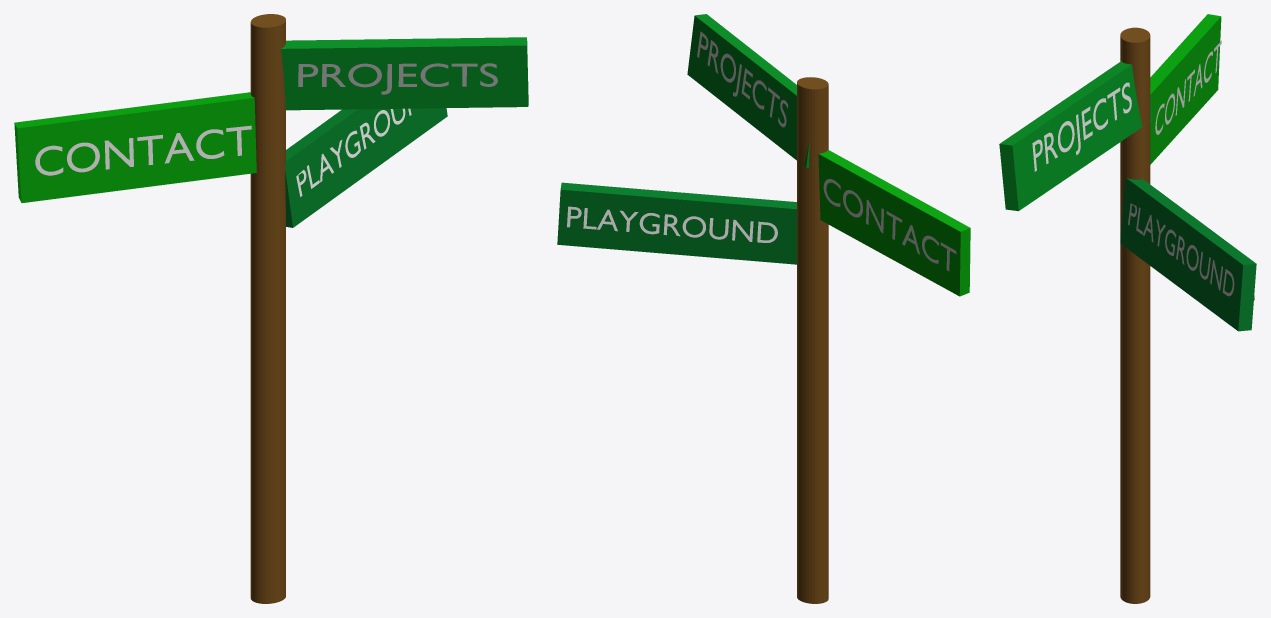
The model's file is sign.fbx.
The picture shows the model from 3 angles, left to right: view 1: azimuth 30°, elevation 25°; view 2: azimuth 150°, elevation 25°; view 3: azimuth 270°, elevation 25°; orthographic projection. The views are drawn at different scales.
Parts seen in each view (by area): view 1: Cylinder, Cube.002, Cube, Cube.001, Text.001, Text, Text.002; view 2: Cylinder, Cube.001, Cube.002, Cube, Text.005, Text.004, Text.003; view 3: Cylinder, Cube, Cube.001, Cube.002, Text.003, Text.002, Text.004.
Boxes of the visible parts, x1=… form: Cylinder: x1=250, y1=14, x2=285, y2=603; Cube.002: x1=14, y1=92, x2=256, y2=202; Cube: x1=281, y1=37, x2=528, y2=110; Cube.001: x1=285, y1=108, x2=447, y2=227; Text.001: x1=35, y1=125, x2=251, y2=175; Text: x1=298, y1=63, x2=497, y2=94; Text.002: x1=296, y1=108, x2=411, y2=196; Cylinder: x1=797, y1=77, x2=828, y2=603; Cube.001: x1=557, y1=182, x2=796, y2=264; Cube.002: x1=818, y1=150, x2=970, y2=296; Cube: x1=687, y1=14, x2=809, y2=167; Text.005: x1=567, y1=206, x2=777, y2=242; Text.004: x1=823, y1=179, x2=956, y2=271; Text.003: x1=697, y1=31, x2=788, y2=127; Cylinder: x1=1120, y1=27, x2=1150, y2=603; Cube: x1=999, y1=61, x2=1152, y2=211; Cube.001: x1=1120, y1=178, x2=1256, y2=331; Cube.002: x1=1150, y1=14, x2=1221, y2=164; Text.003: x1=1032, y1=82, x2=1131, y2=171; Text.002: x1=1128, y1=203, x2=1234, y2=296; Text.004: x1=1155, y1=40, x2=1221, y2=134.
Bounding box in the file's own units: 28.22 × 34.83 × 14.47.
